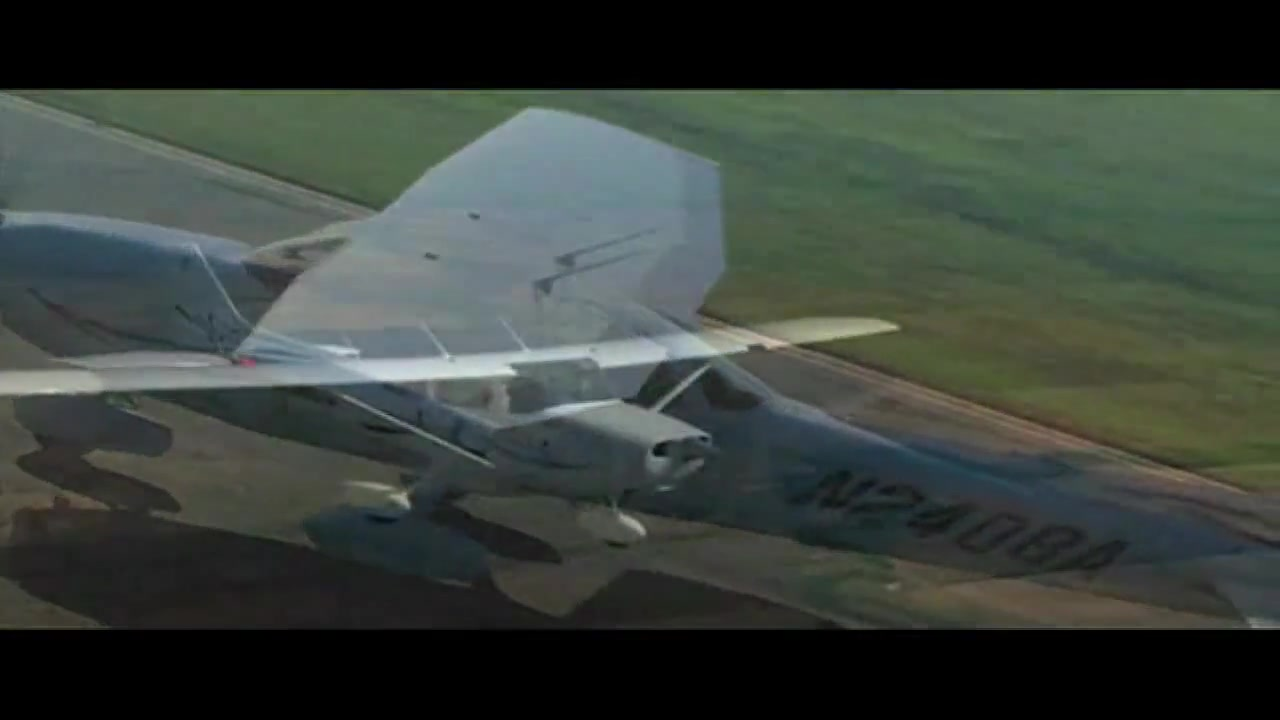aeroplane: (2, 104, 1280, 634)
